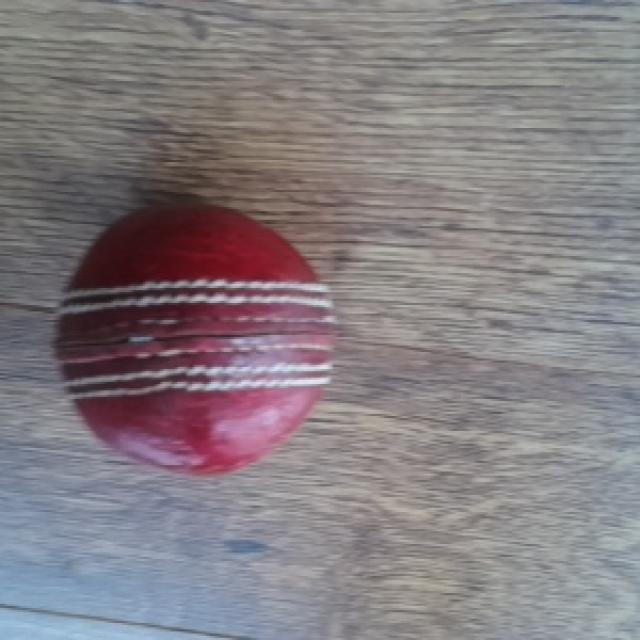ball: (52, 206, 340, 466)
